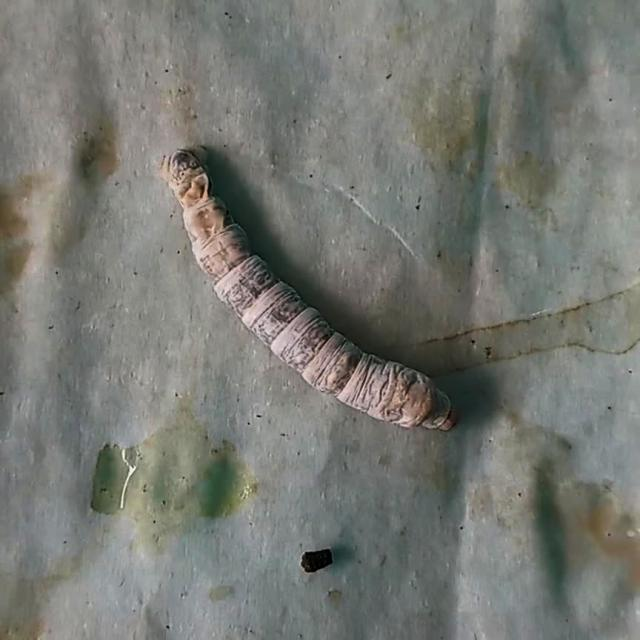Grasserie: (157, 137, 465, 448)
